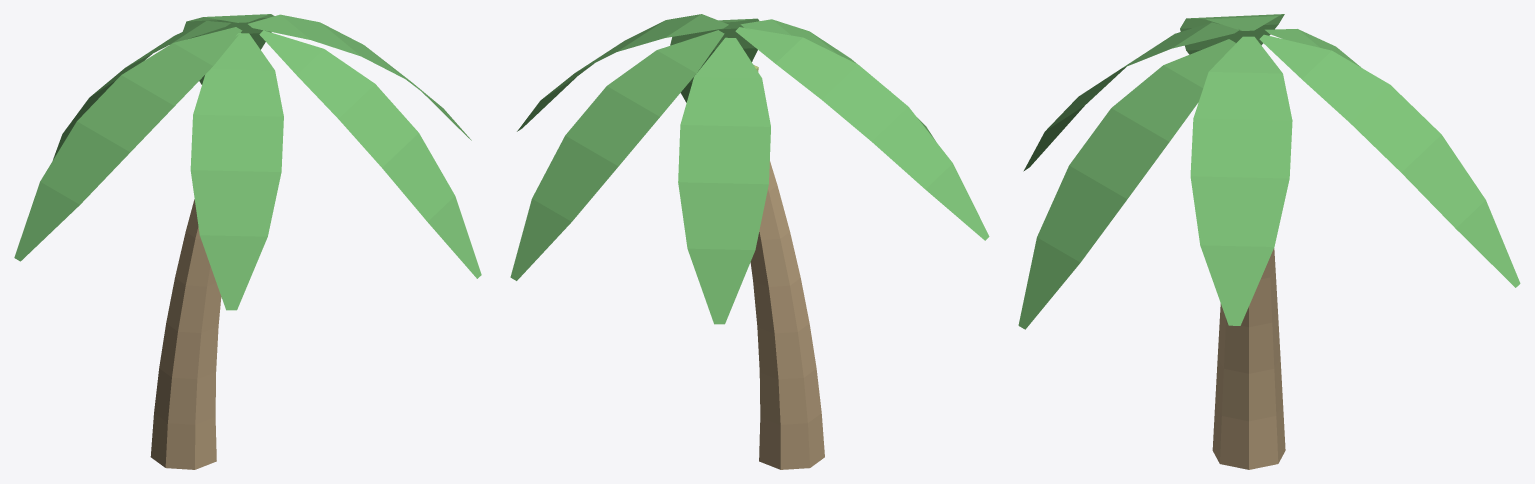
File: 50-Vegetacion_palmera_joven.glb
3 views of the same model, side by side, from view 1: azimuth 30°, elevation 25°; view 2: azimuth 150°, elevation 25°; view 3: azimuth 270°, elevation 25° (orthographic). The views are drawn at different scales.
Parts seen in each view (by area): view 1: SM_Tronco_M_Hoja_PalmeraJoven, SM_Tronco_M_Tronco_PalmeraJoven; view 2: SM_Tronco_M_Hoja_PalmeraJoven, SM_Tronco_M_Tronco_PalmeraJoven; view 3: SM_Tronco_M_Hoja_PalmeraJoven, SM_Tronco_M_Tronco_PalmeraJoven.
Boxes of the visible parts, left/top/right/bottom form: SM_Tronco_M_Hoja_PalmeraJoven: left=14, top=14, right=481, bottom=310; SM_Tronco_M_Tronco_PalmeraJoven: left=150, top=199, right=221, bottom=469; SM_Tronco_M_Hoja_PalmeraJoven: left=510, top=14, right=989, bottom=324; SM_Tronco_M_Tronco_PalmeraJoven: left=750, top=161, right=824, bottom=469; SM_Tronco_M_Hoja_PalmeraJoven: left=1018, top=14, right=1520, bottom=329; SM_Tronco_M_Tronco_PalmeraJoven: left=1212, top=248, right=1285, bottom=469.
Bounding box in the file's own units: 3.5 × 3 × 3.02.
